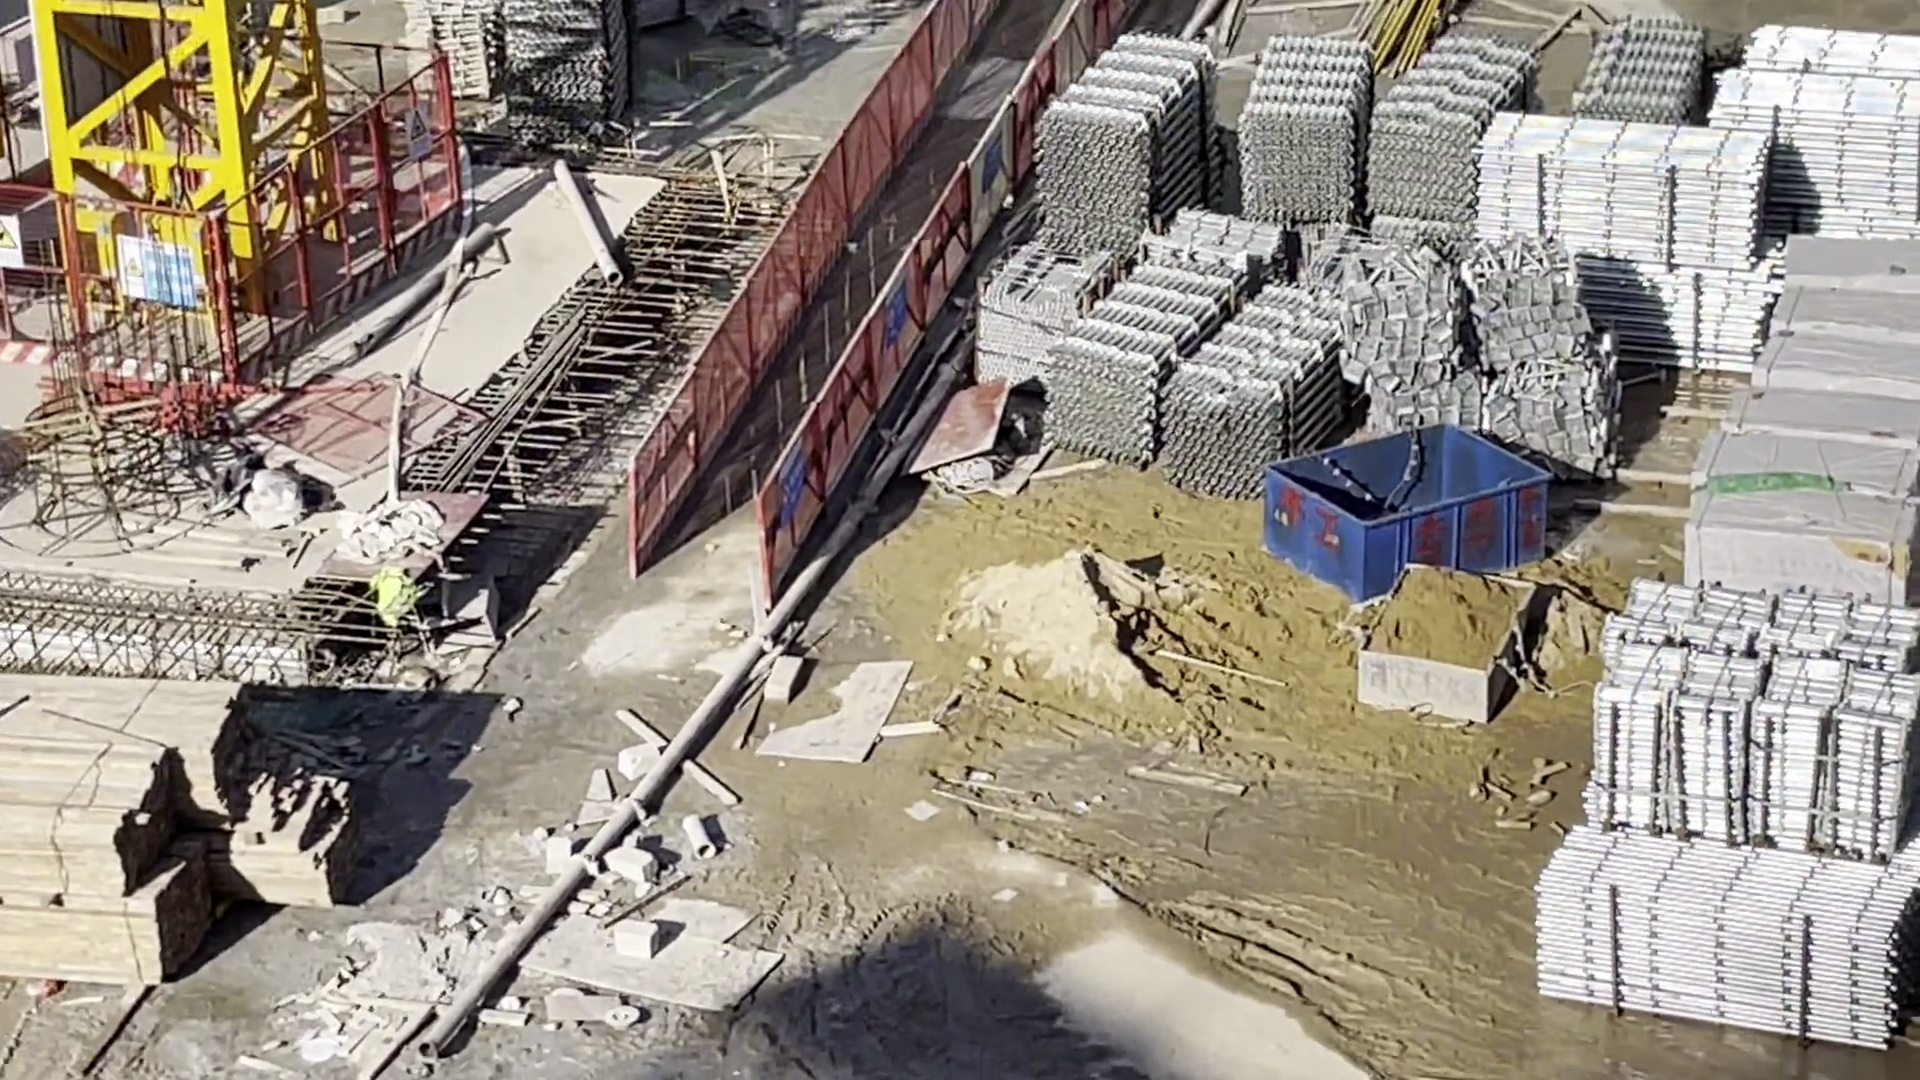fence: (640, 4, 1100, 558)
hopper: (1265, 419, 1544, 597), (1360, 560, 1535, 723)
scaffold: (1593, 578, 1920, 855), (1528, 845, 1920, 1051), (1476, 104, 1771, 365), (1242, 36, 1524, 231), (1725, 29, 1920, 236), (1040, 33, 1221, 256), (1062, 264, 1254, 454), (1176, 295, 1345, 502), (496, 1, 608, 124), (1578, 22, 1702, 119), (419, 4, 502, 96)
slogan: (123, 243, 193, 319), (781, 442, 802, 524), (404, 109, 436, 160), (886, 272, 905, 345), (1, 215, 25, 266)
wood: (1, 676, 255, 981)
